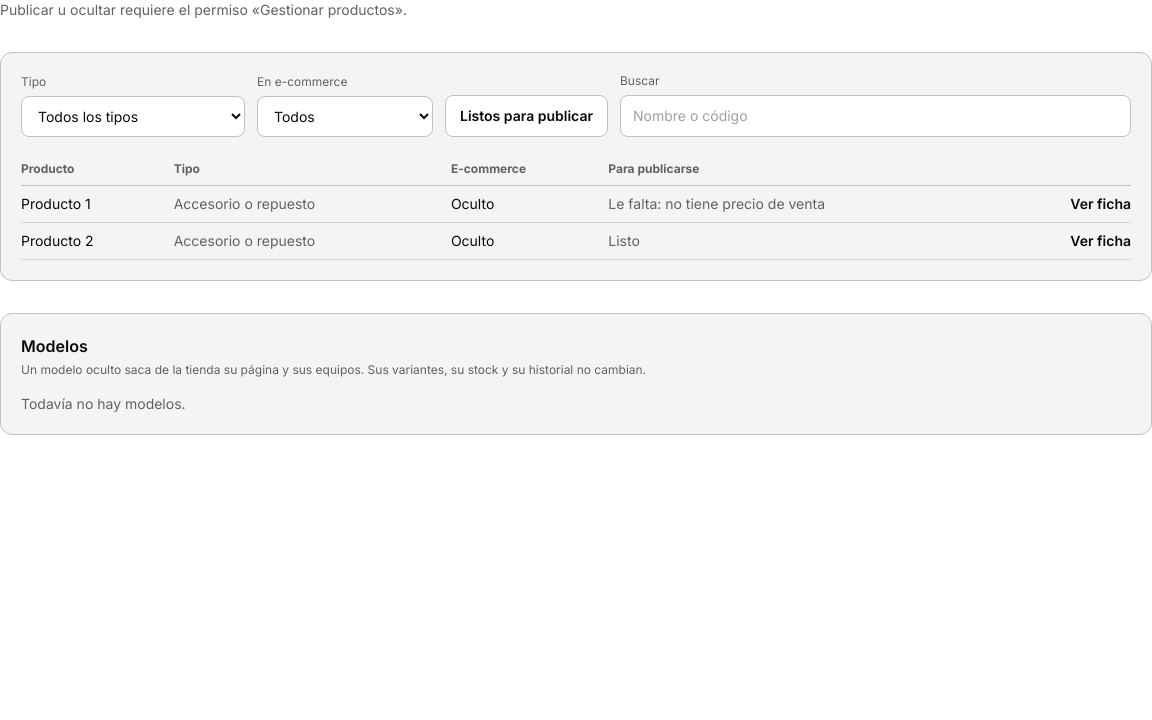
Completar ficha — pendientes y editores › sin «Gestionar productos» ve la vista previa pero no hay editores ni publicar
Expected: the table named "Productos y variantes" is shown, [21,153,1131,260]
Click the button "Ver ficha" in the row of "Producto 1" at (1101, 204), box [1070,194,1131,214]
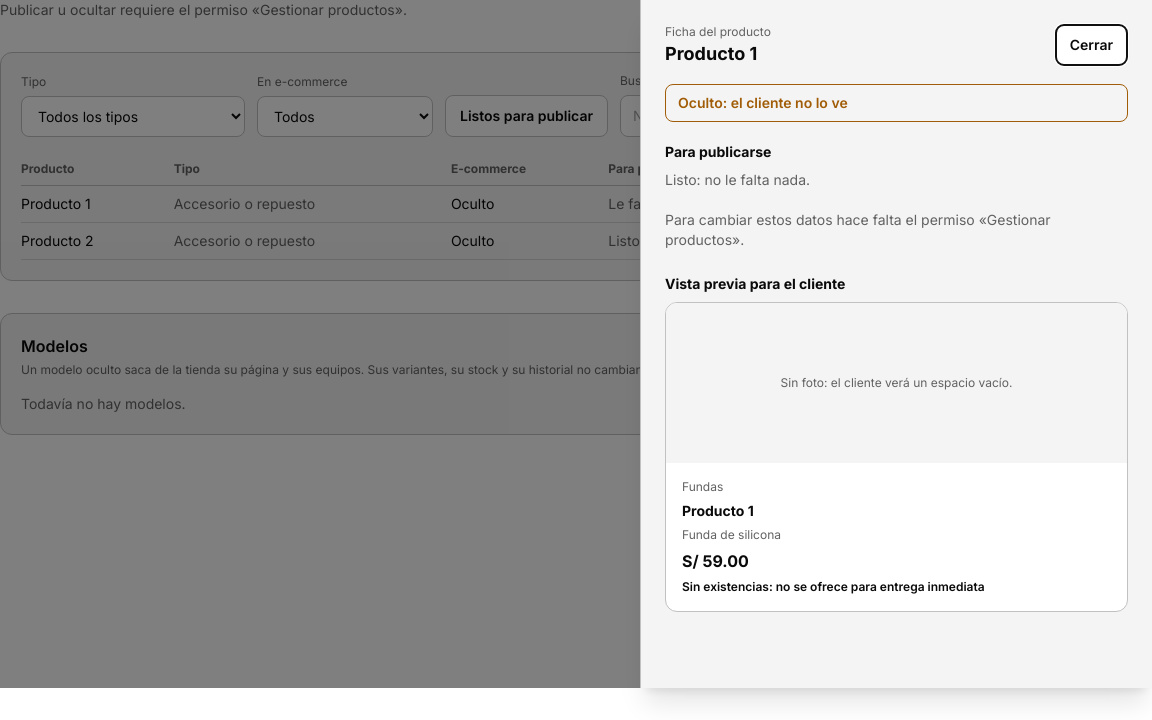
Expected: the text "Oculto: el cliente no lo ve" is shown, [665,84,1128,122]
Expected: the element named "Tarjeta del cliente" is shown, [665,302,1128,612]
